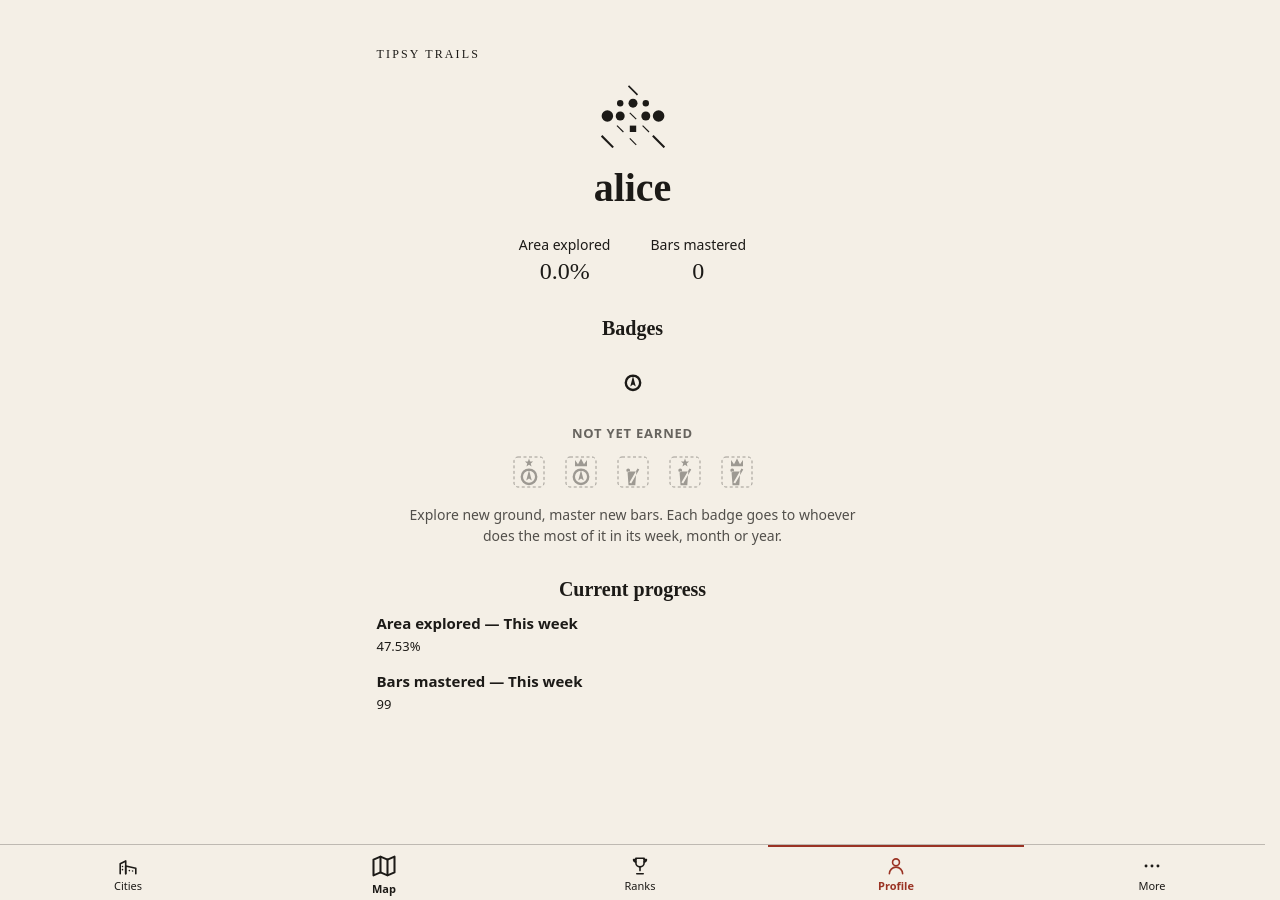
Scenario: the badge sheet › opens as a modal dialog named for the badge that was tapped
Click the button with class "badge" at (632, 378), box [610,356,654,400]
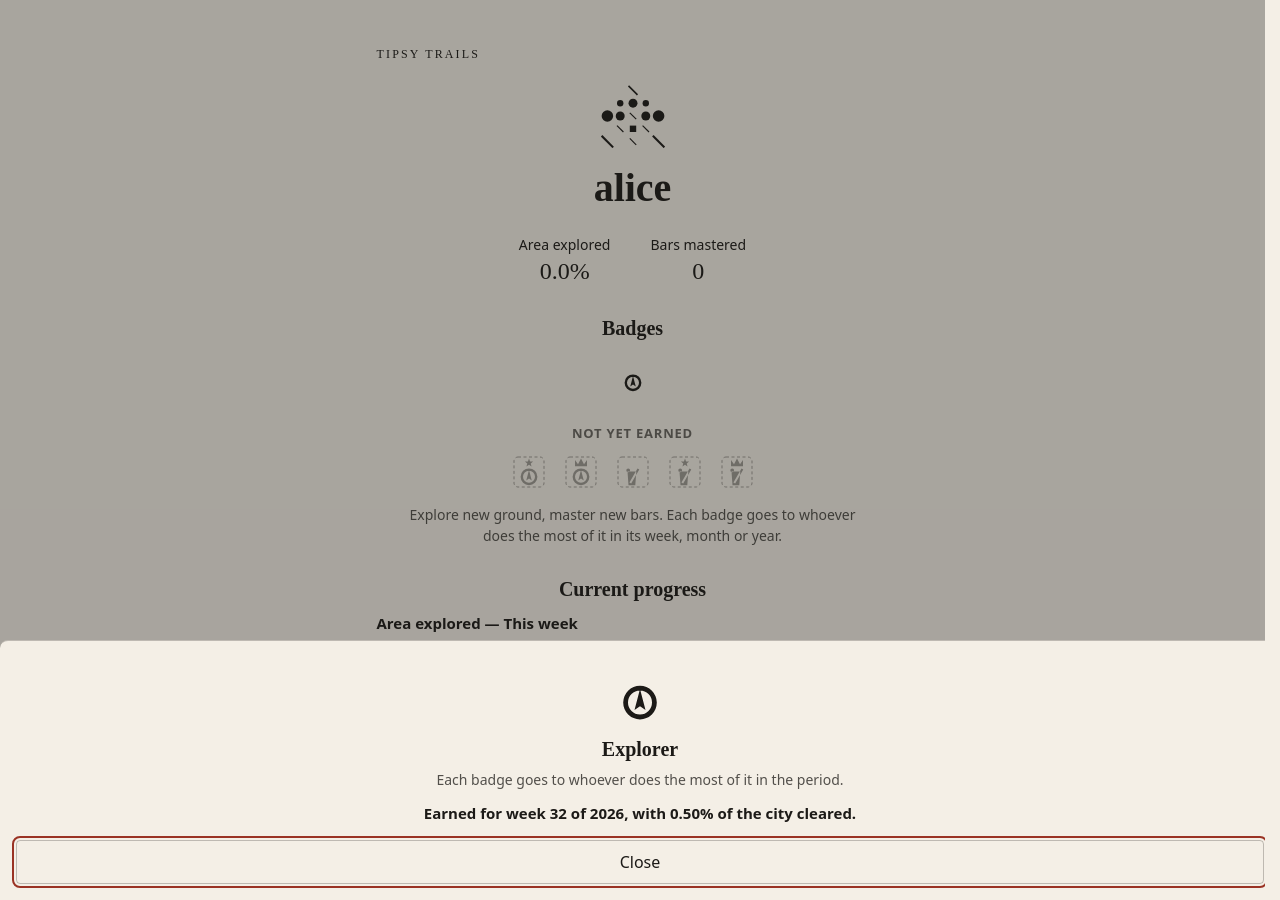
Now the dialog with class "badge-sheet__panel" is shown, box [0,640,1279,899]
Now the heading with class "badge-sheet__name" reads "Explorer", box [602,738,678,760]
Now the 2nd icon with class "badge__icon" is shown, box [608,660,672,724]
